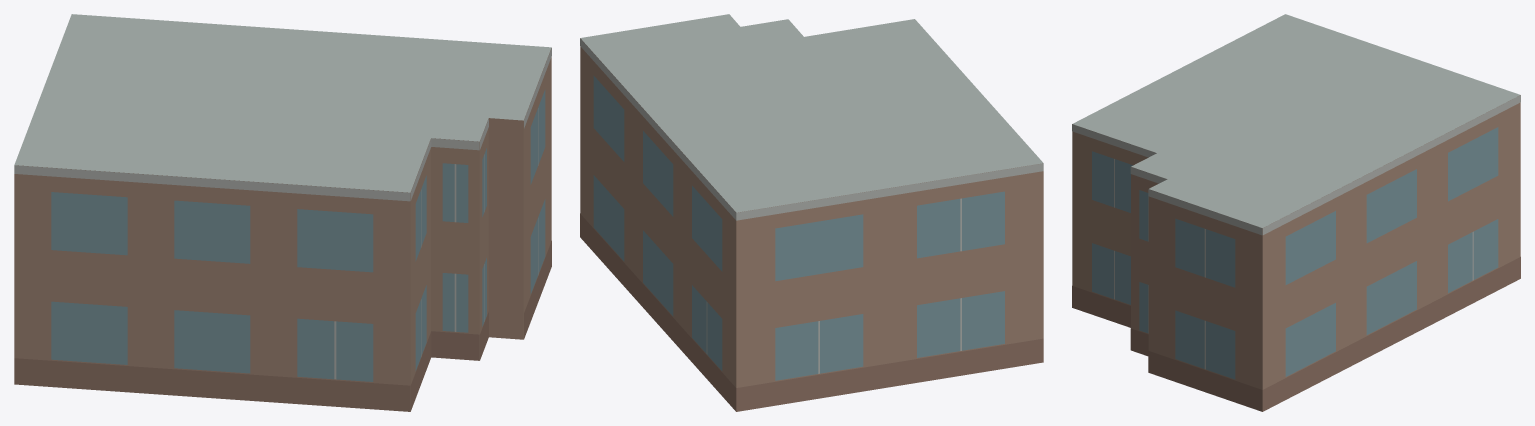
File: survey-upis-32798582.glb
3 renders of one model, left to right at view 1: azimuth 30°, elevation 25°; view 2: azimuth 150°, elevation 25°; view 3: azimuth 270°, elevation 25°, orthographic. The views are drawn at different scales.
Visible parts, largest first — view 1: survey-upis-32798582.tmp; view 2: survey-upis-32798582.tmp; view 3: survey-upis-32798582.tmp.
Boxes of the visible parts, <box> form: survey-upis-32798582.tmp: <box>14,14,551,411</box>; survey-upis-32798582.tmp: <box>580,14,1043,411</box>; survey-upis-32798582.tmp: <box>1072,14,1520,411</box>.
Bounding box in the file's own units: 15.26 × 6.1 × 13.51.
